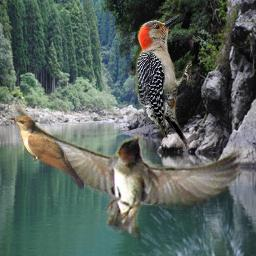Cuckoo: (9, 115, 84, 189)
Swallow: (10, 101, 246, 243)
Woodpecker: (131, 11, 192, 157)
